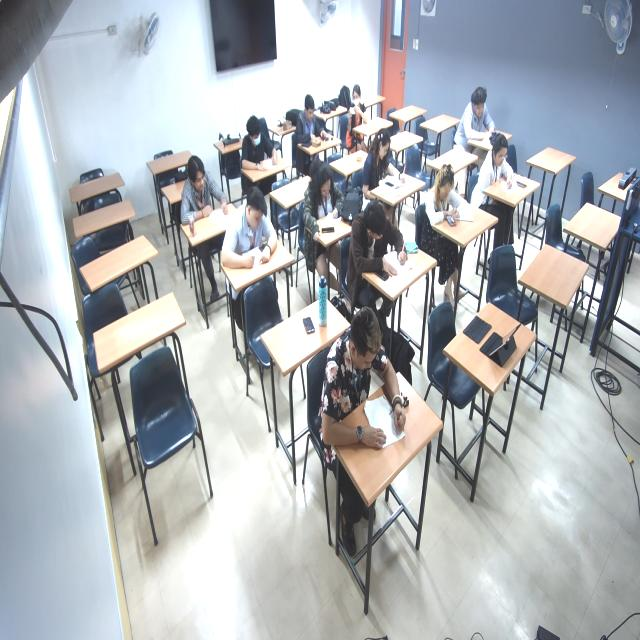read: (323, 314, 416, 460), (351, 206, 416, 291), (226, 195, 289, 273), (297, 163, 355, 240), (359, 127, 411, 201), (180, 162, 237, 227), (425, 164, 474, 233), (458, 78, 501, 149), (237, 119, 286, 179), (480, 137, 523, 199)
